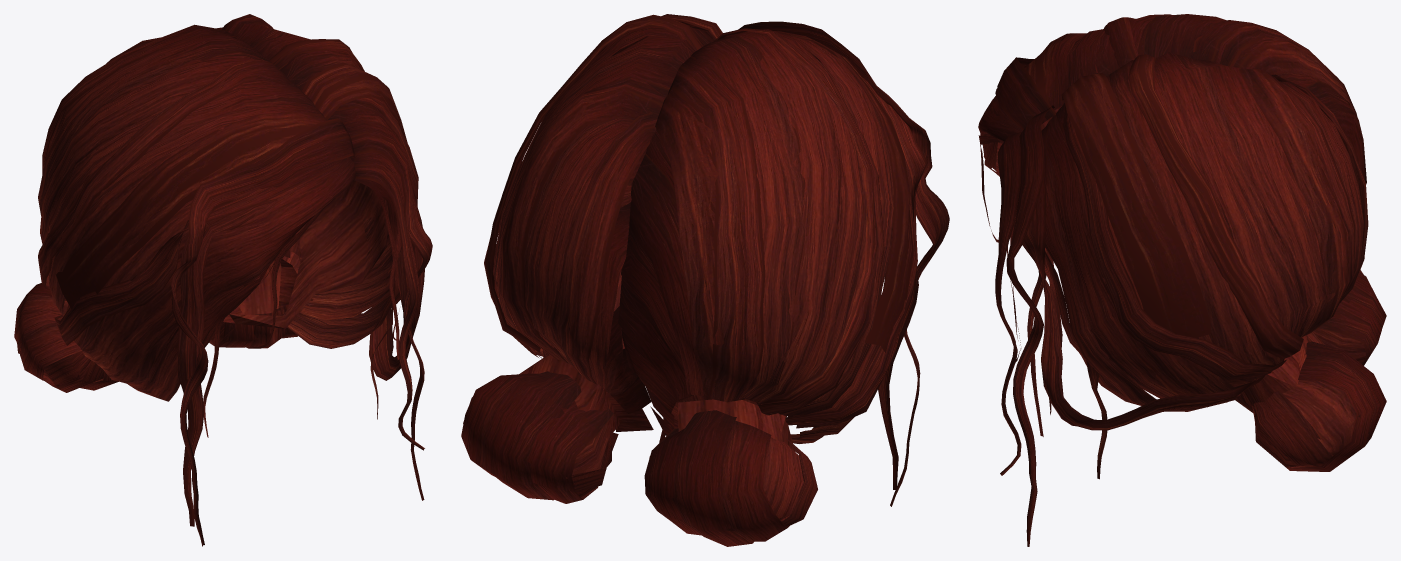
Rendered from triss_hairs.obj.
The picture shows the model from 3 angles, left to right: view 1: azimuth 30°, elevation 25°; view 2: azimuth 150°, elevation 25°; view 3: azimuth 270°, elevation 25°; orthographic projection. The views are drawn at different scales.
Visible parts, largest first — view 1: hair; view 2: hair; view 3: hair.
Part boxes in pixels (box(x1,y1,x2,y2)): hair: box(14, 14, 432, 546); hair: box(461, 14, 949, 546); hair: box(978, 14, 1386, 546).
Bounding box in the file's own units: 1111 × 1412 × 1132.
